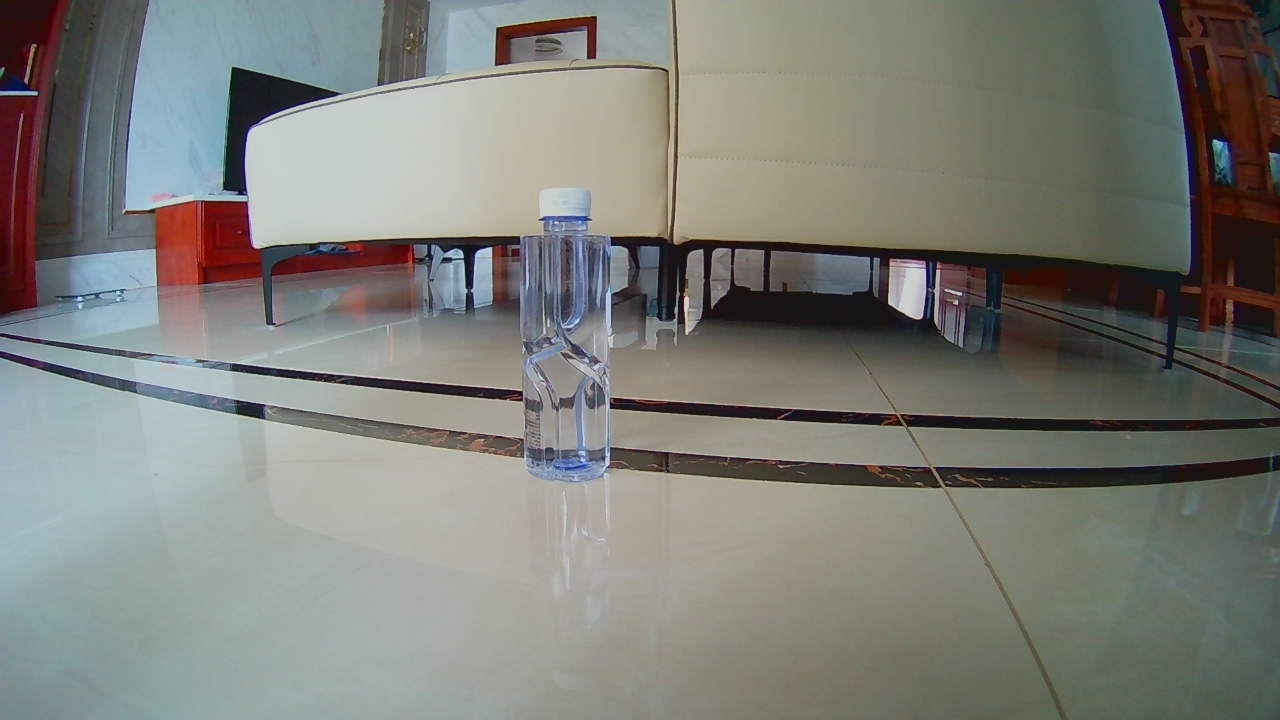water: (520, 190, 611, 478)
